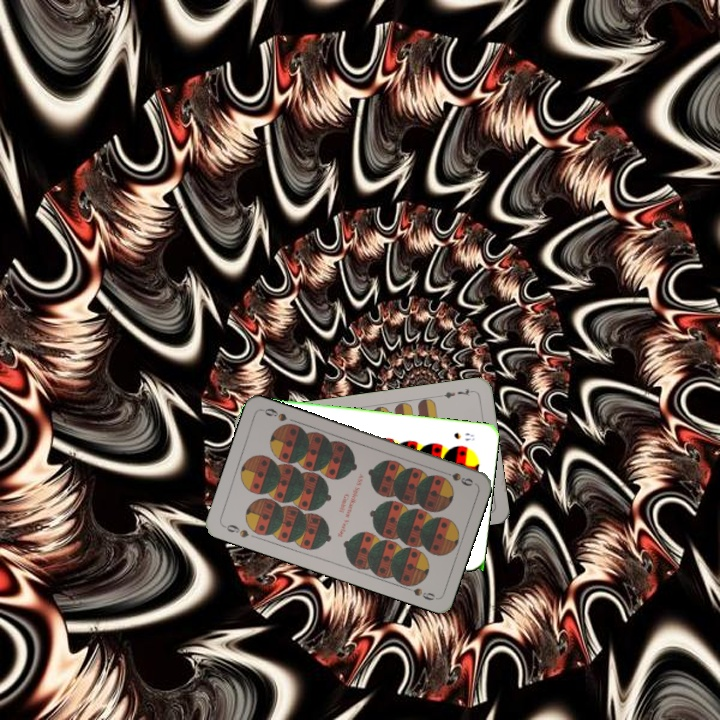E7: (436, 385, 476, 401)
S8: (450, 429, 477, 443)
S9: (437, 467, 476, 489), (219, 520, 251, 540)
